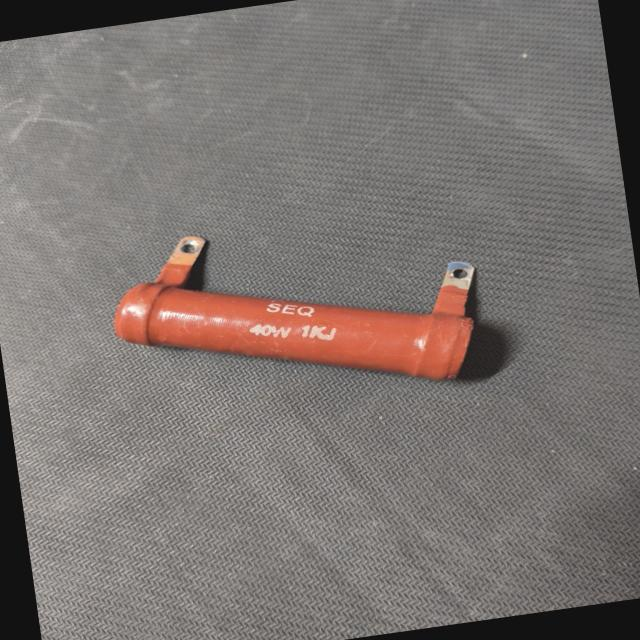resistor: (95, 188, 501, 436)
